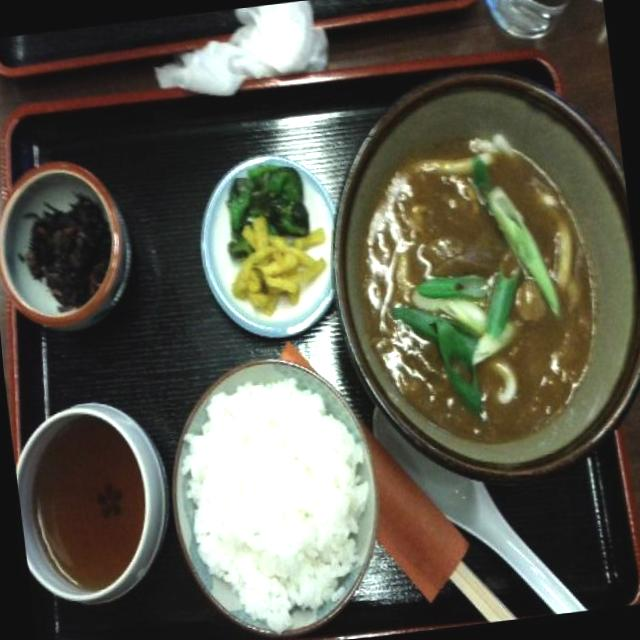Rice: (163, 358, 382, 637)
